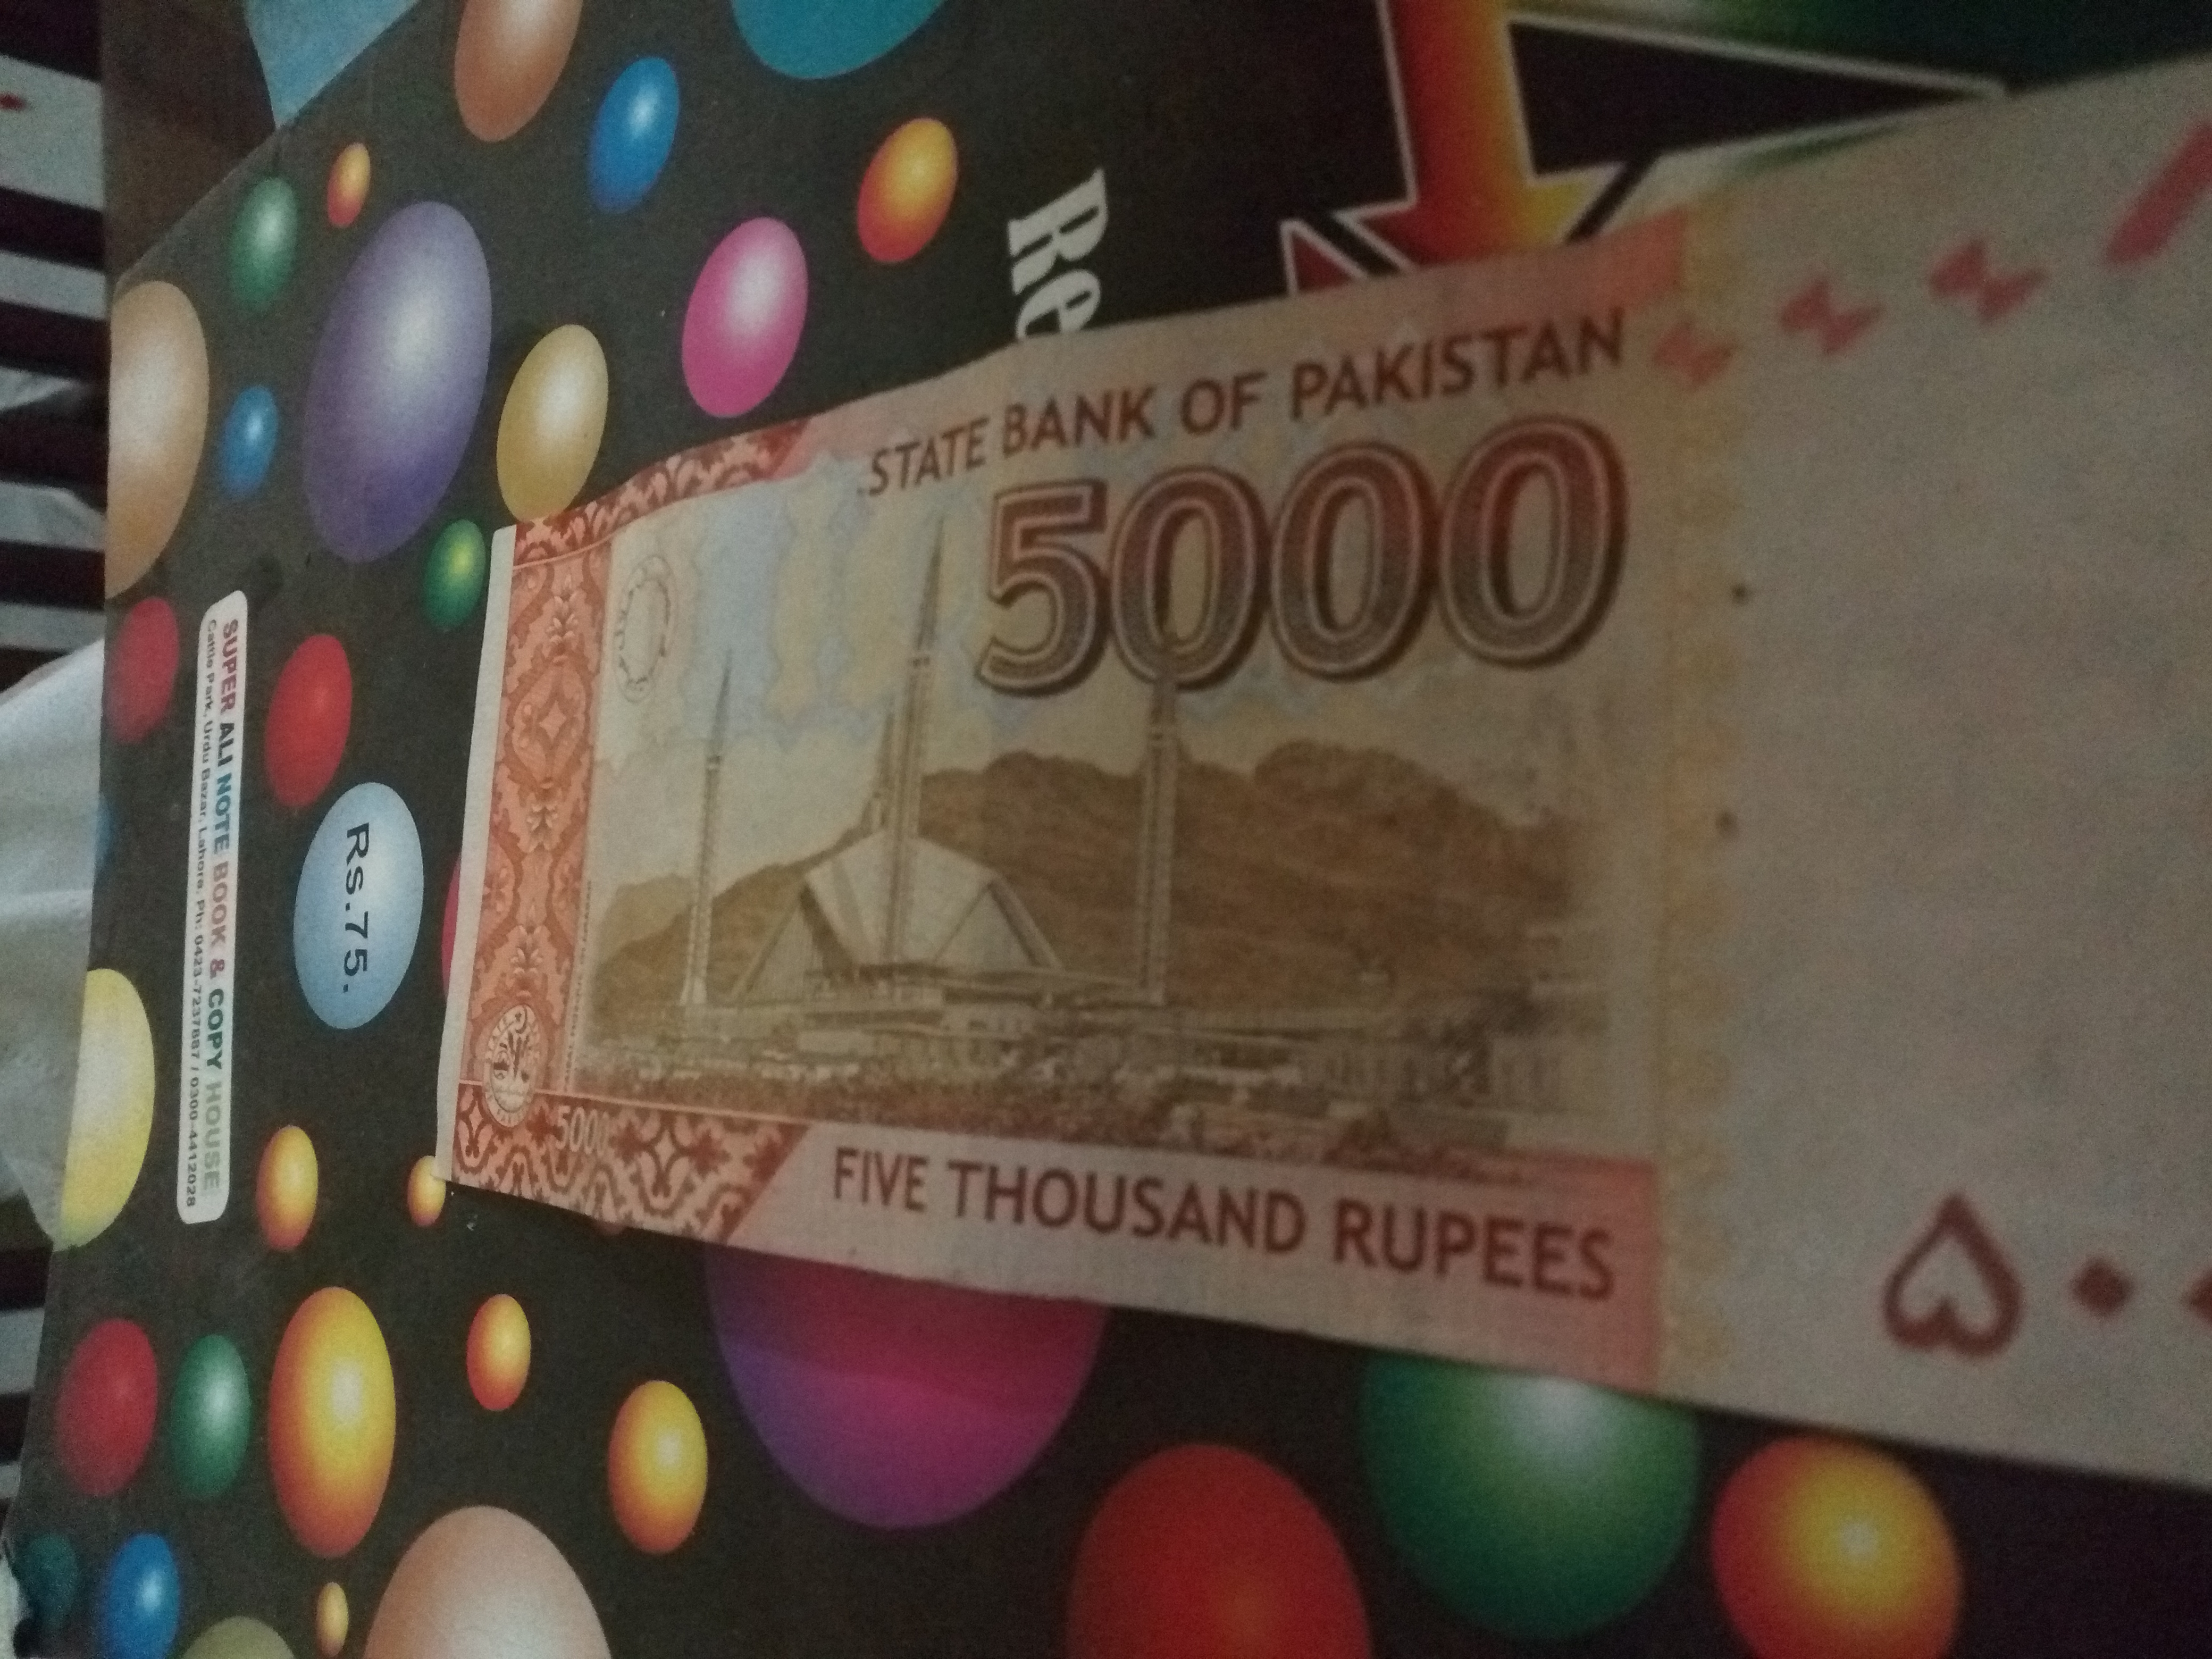5000 rupee: (336, 66, 2189, 1528)
